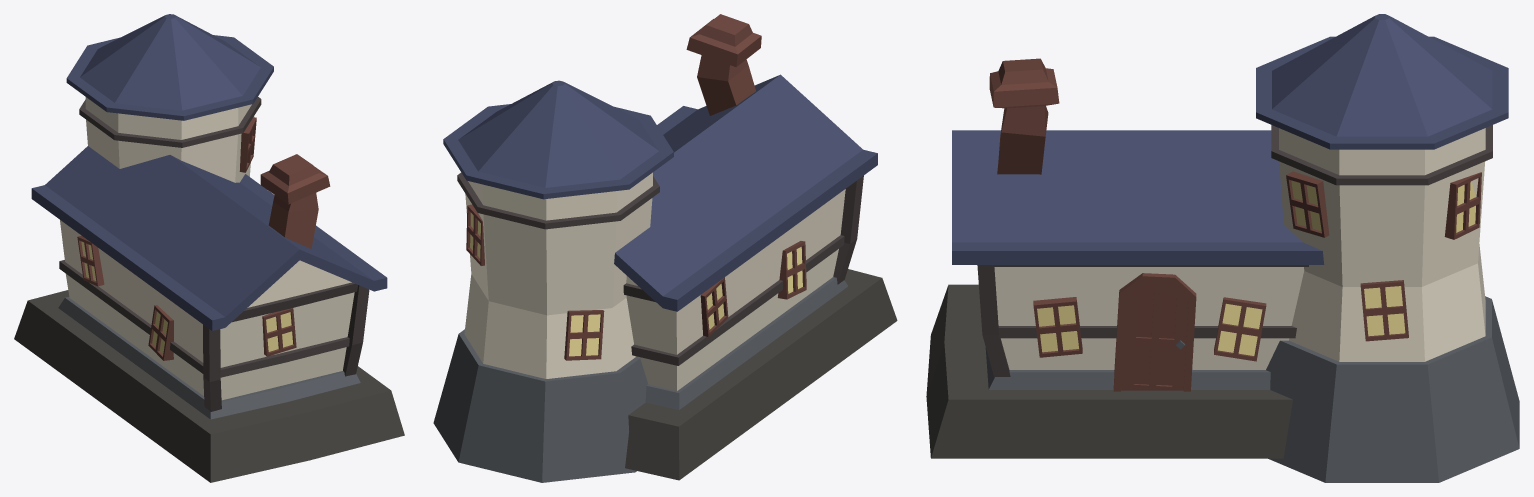
File: alicehouse.glb
The picture shows the model from 3 angles, left to right: view 1: azimuth 30°, elevation 25°; view 2: azimuth 150°, elevation 25°; view 3: azimuth 270°, elevation 25°; orthographic projection. The views are drawn at different scales.
Parts seen in each view (by area): view 1: Cube; view 2: Cube; view 3: Cube.
Boxes of the visible parts, x1,y1,x2,y2 form: Cube: (14, 14, 404, 482); Cube: (433, 14, 897, 482); Cube: (926, 14, 1519, 482).
Size of what is drawn, in the model's own units: 11.3 by 15.09 by 19.88.
